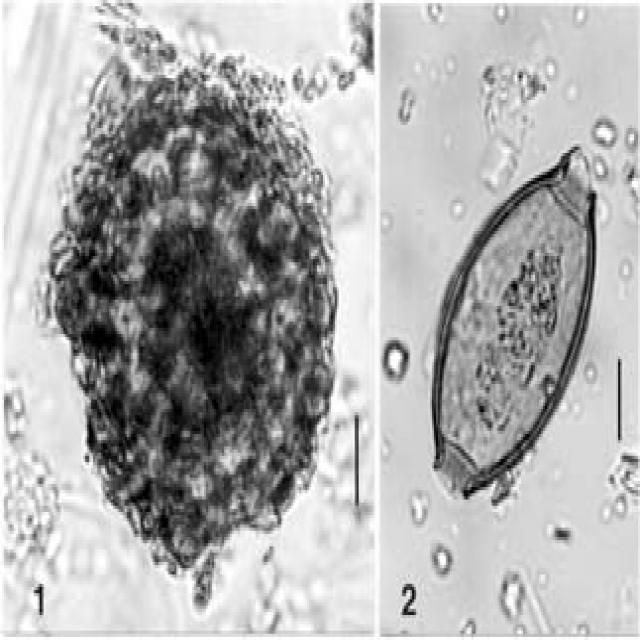Ascaris Lumbricoides: (39, 39, 340, 567)
Trichuris Trichiura: (422, 137, 600, 512)
